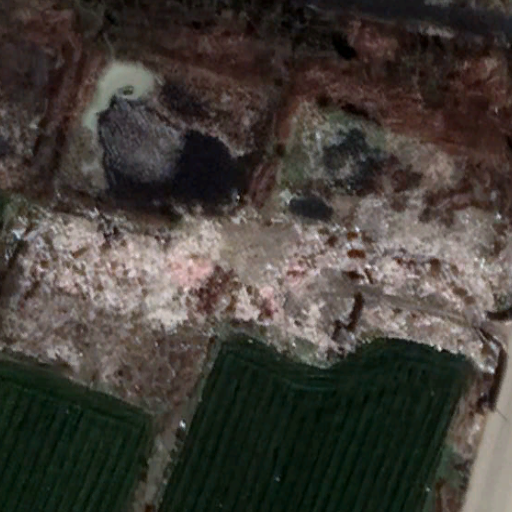msw: (27, 212, 512, 375)
